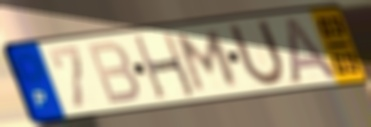7: (46, 43, 87, 111)
A: (282, 14, 342, 86)
B: (84, 39, 143, 107)
H: (131, 30, 199, 102)
M: (174, 29, 241, 95)
U: (225, 18, 289, 89)
